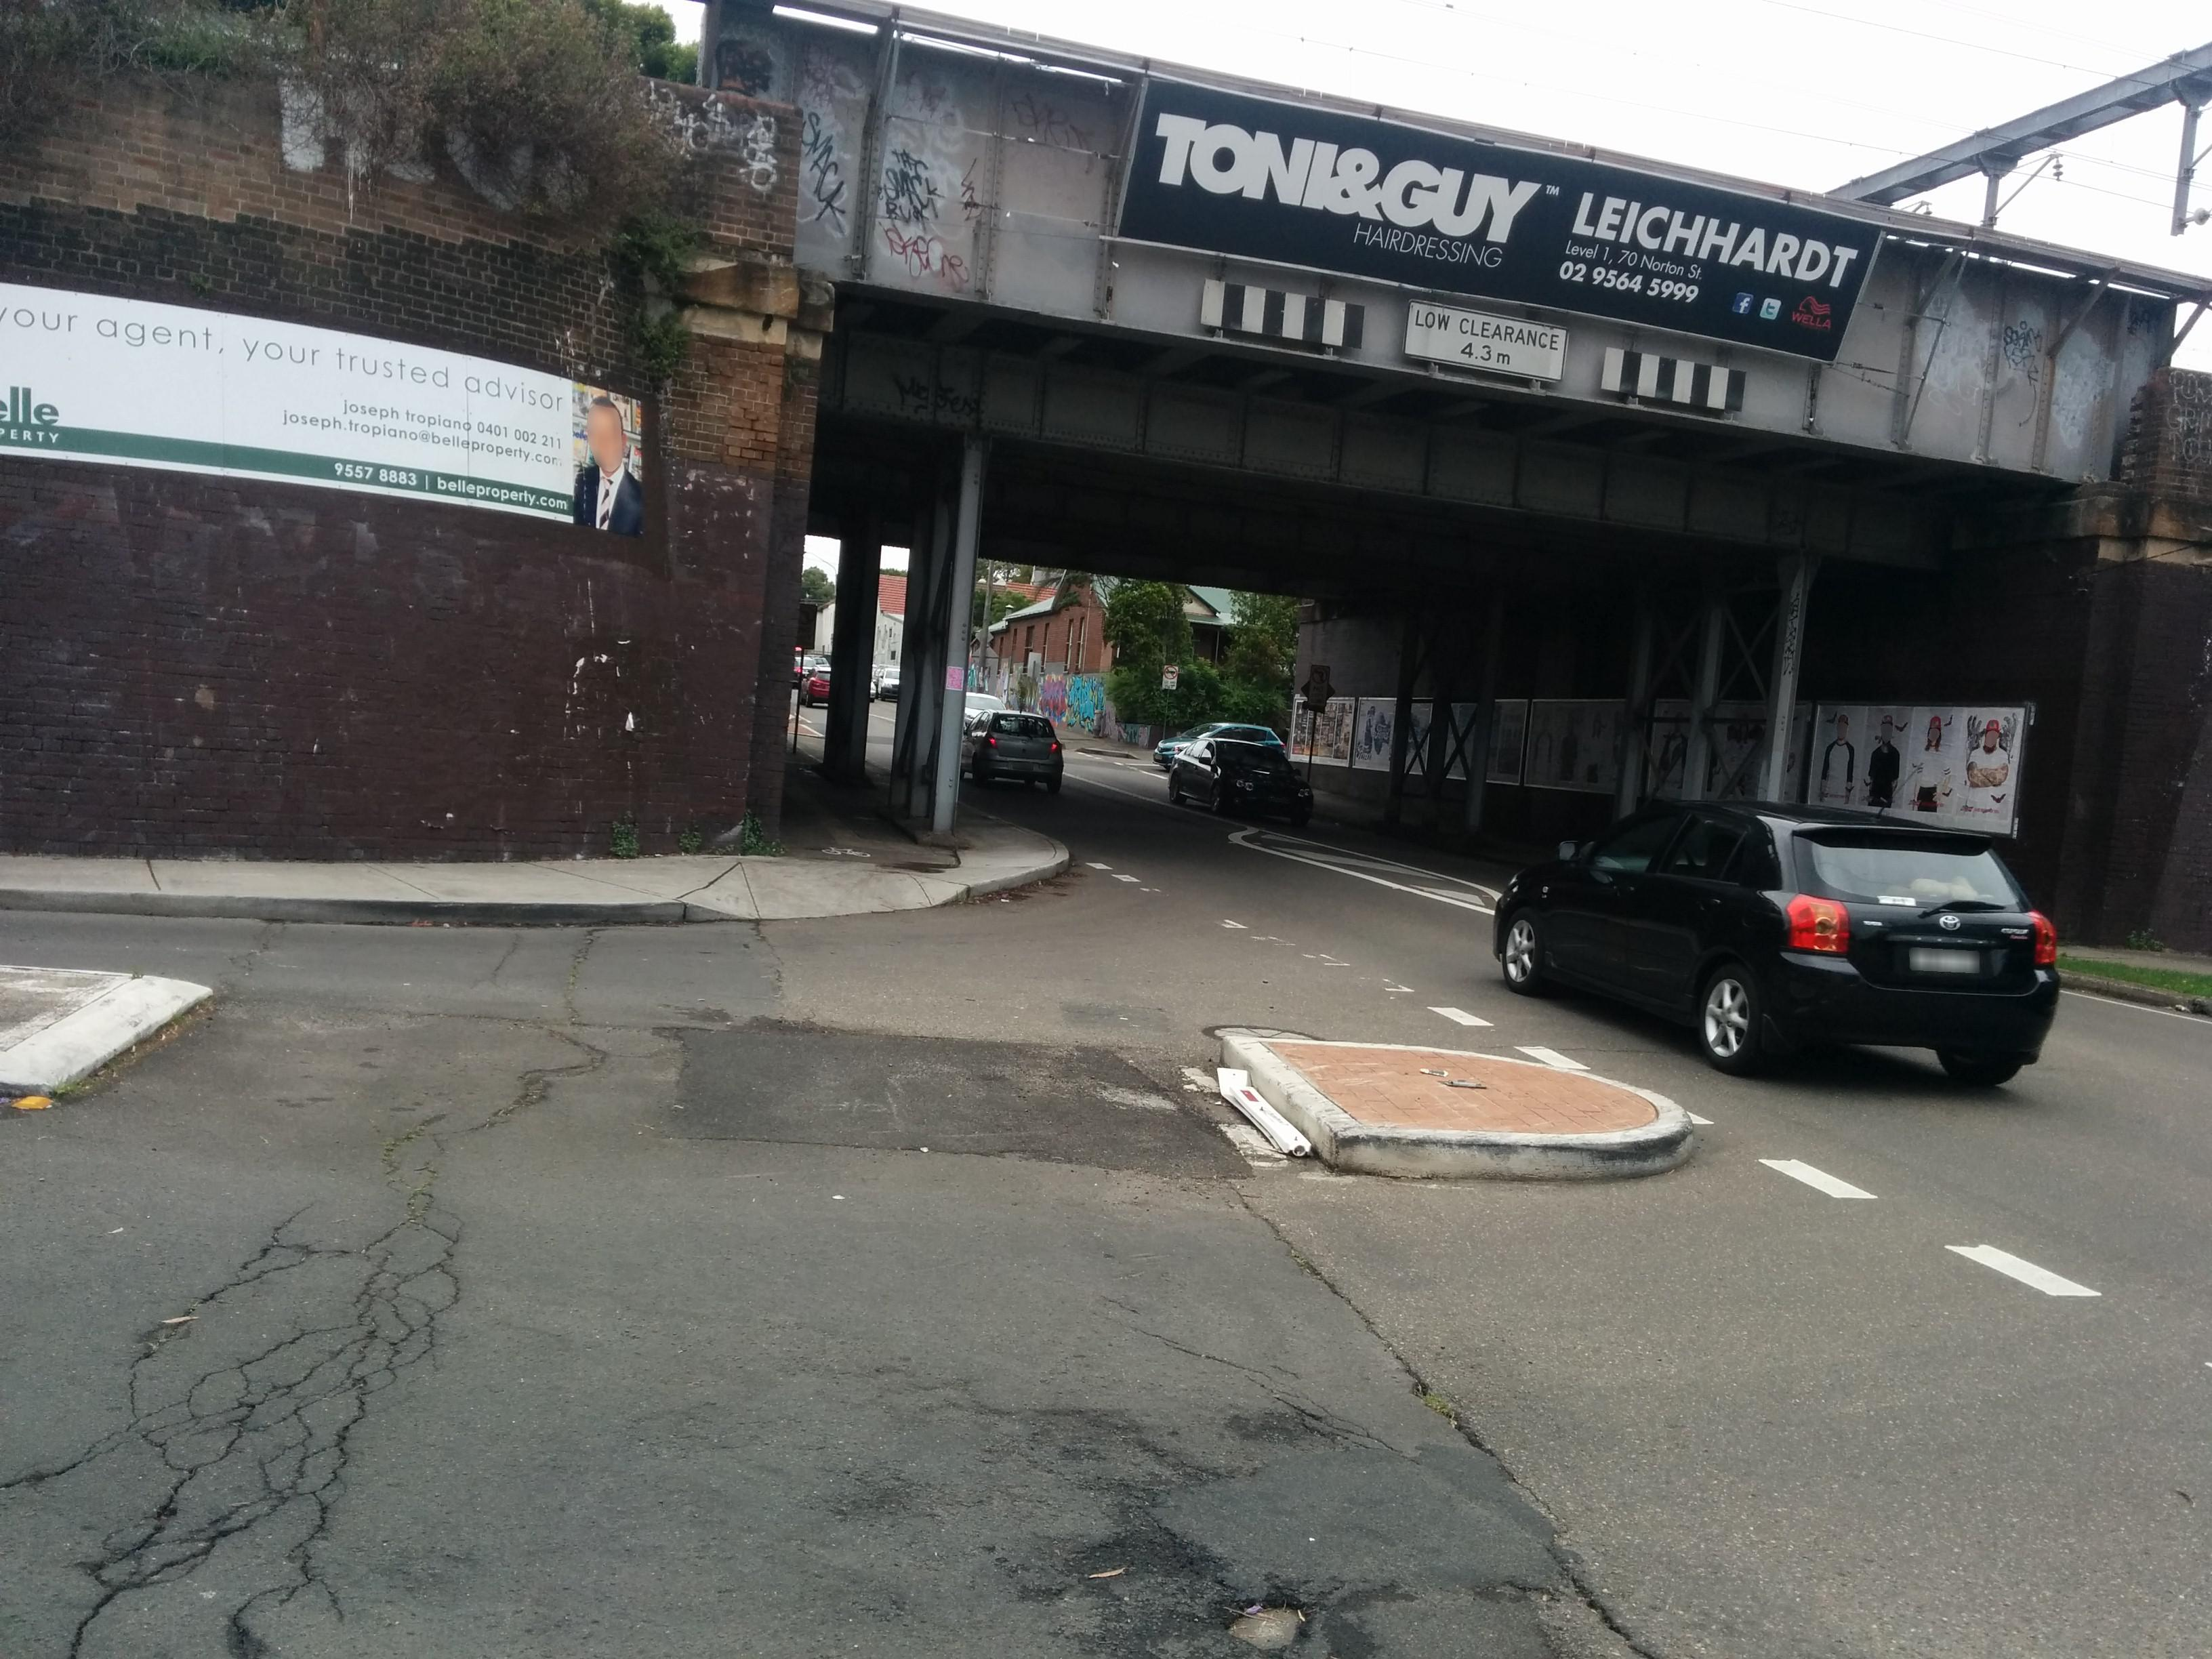vinyl banner: (1106, 58, 1914, 383), (0, 270, 667, 554)
